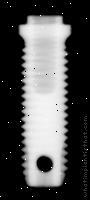Nobel Biocare: (18, 15, 72, 188)
